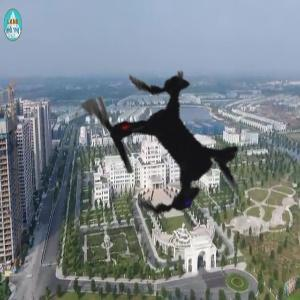drone: (37, 19, 294, 276)
